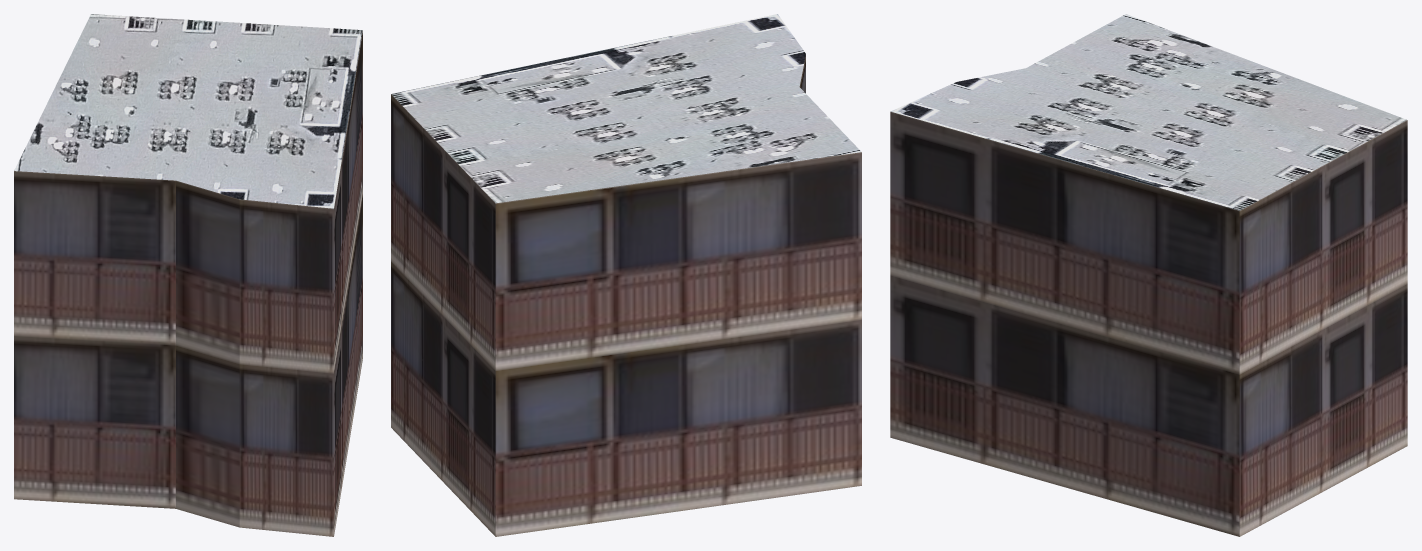
File: ResTex__3389.fbx
The picture shows the model from 3 angles, left to right: view 1: azimuth 30°, elevation 25°; view 2: azimuth 150°, elevation 25°; view 3: azimuth 270°, elevation 25°; orthographic projection. The views are drawn at different scales.
Visible parts, largest first — view 1: CityEngineMaterial_6_m, CityEngineMaterial_m; view 2: CityEngineMaterial_6_m, CityEngineMaterial_m; view 3: CityEngineMaterial_6_m, CityEngineMaterial_m.
Part boxes in pixels (left/top/right/bottom): CityEngineMaterial_6_m: left=14, top=31, right=362, bottom=536; CityEngineMaterial_m: left=14, top=14, right=362, bottom=208; CityEngineMaterial_6_m: left=391, top=55, right=861, bottom=536; CityEngineMaterial_m: left=391, top=14, right=861, bottom=203; CityEngineMaterial_6_m: left=890, top=111, right=1407, bottom=536; CityEngineMaterial_m: left=891, top=14, right=1406, bottom=210.
Size of the model in its own units: 7.77 by 6 by 8.62.
2 materials, 2 textured.
